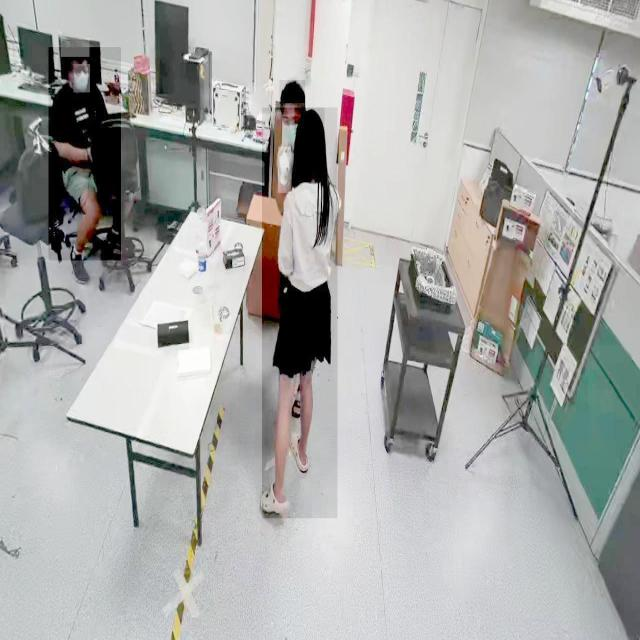face_mask: (282, 115, 301, 149), (74, 64, 90, 93)
hand_glove: (278, 147, 292, 193)
head_nohelmet: (295, 108, 325, 136), (280, 80, 306, 104), (60, 38, 90, 58)
person: (262, 108, 338, 519), (48, 47, 122, 261), (276, 80, 316, 208)
